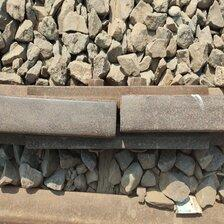railway-gap: (71, 76, 174, 177)
